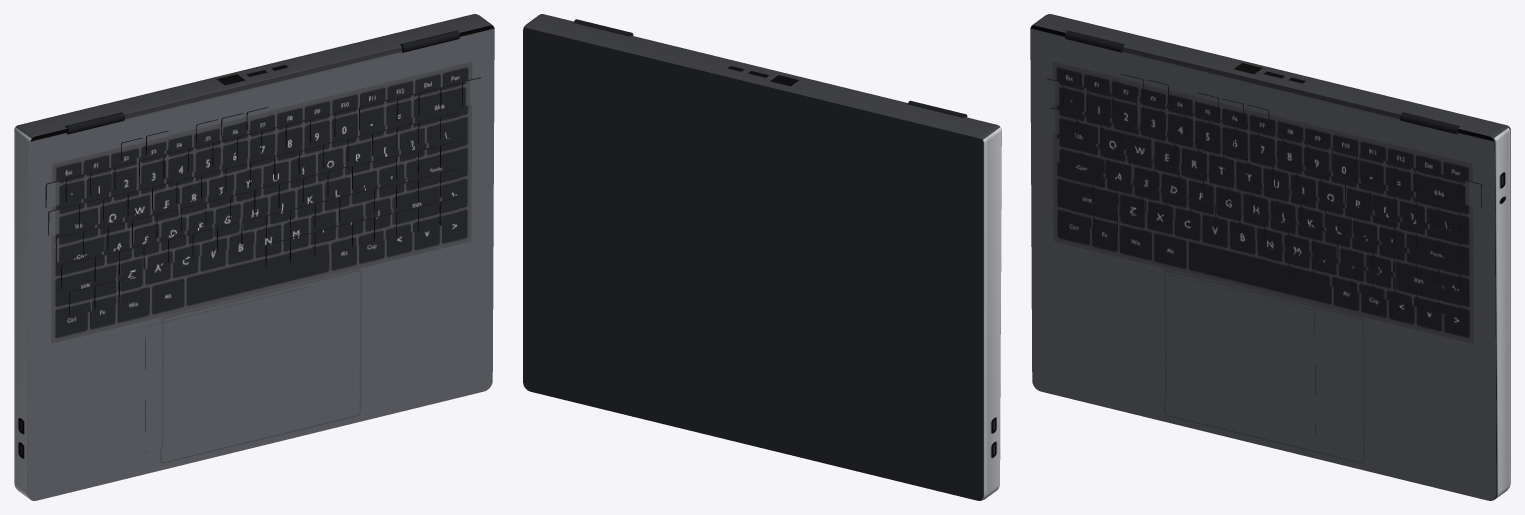
Rendered from body.obj.
3 views of the same model, side by side, from view 1: azimuth 30°, elevation 25°; view 2: azimuth 150°, elevation 25°; view 3: azimuth 330°, elevation 25° (orthographic).
Visible parts, largest first — view 1: deck, keys.001, base, base.002, keys, hinge; view 2: base.003, base, base.002, hinge; view 3: deck, keys.001, base, base.001, keys, hinge.
Part boxes in pixels (x1,y1,x2,y2): deck: (28,25,494,500); keys.001: (46,78,481,316); base: (15,14,492,500); base.002: (14,127,31,499); keys: (45,77,480,315); hinge: (65,30,459,134); base.003: (523,28,983,500); base: (524,14,999,500); base.002: (982,127,1001,499); hinge: (573,19,967,117); deck: (1030,25,1496,500); keys.001: (1046,75,1481,317); base: (1032,14,1509,500); base.001: (1493,127,1510,499); keys: (1046,74,1481,316); hinge: (1065,30,1459,134).
Bounding box in the file's own units: 356 × 270 × 25.6.
